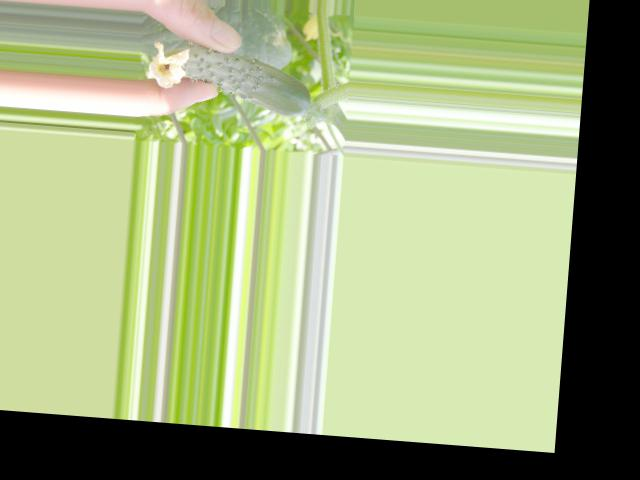cucumber: (146, 41, 315, 117)
